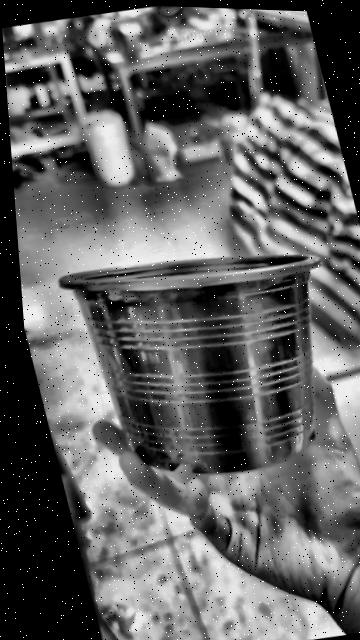pot: (59, 254, 318, 472)
